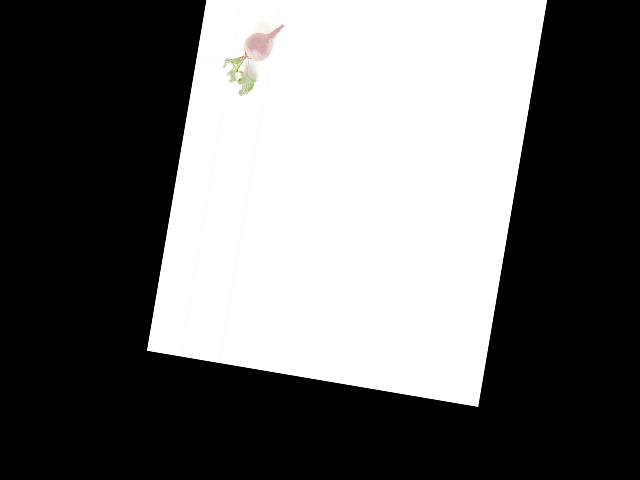beet: (218, 16, 284, 101)
